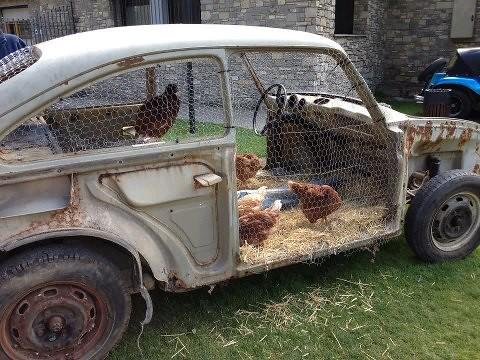car: (1, 23, 480, 360), (415, 47, 480, 120)
